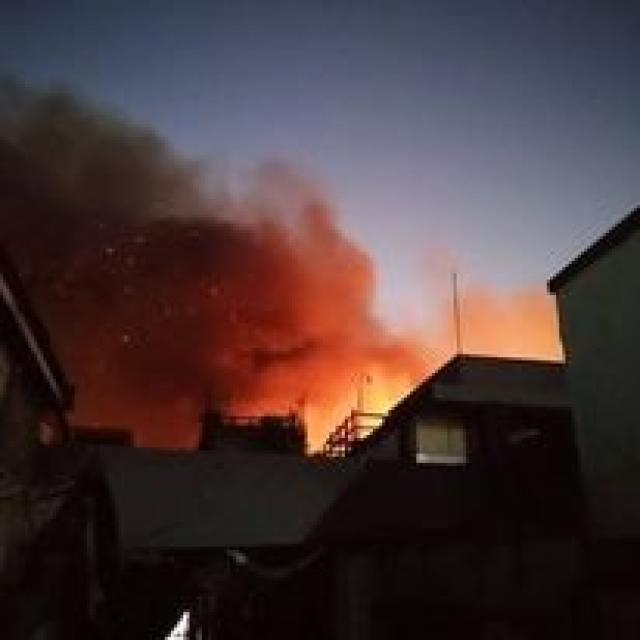Fire: (316, 356, 398, 418)
Smoke: (106, 142, 370, 388), (0, 75, 137, 276), (56, 281, 191, 451)
